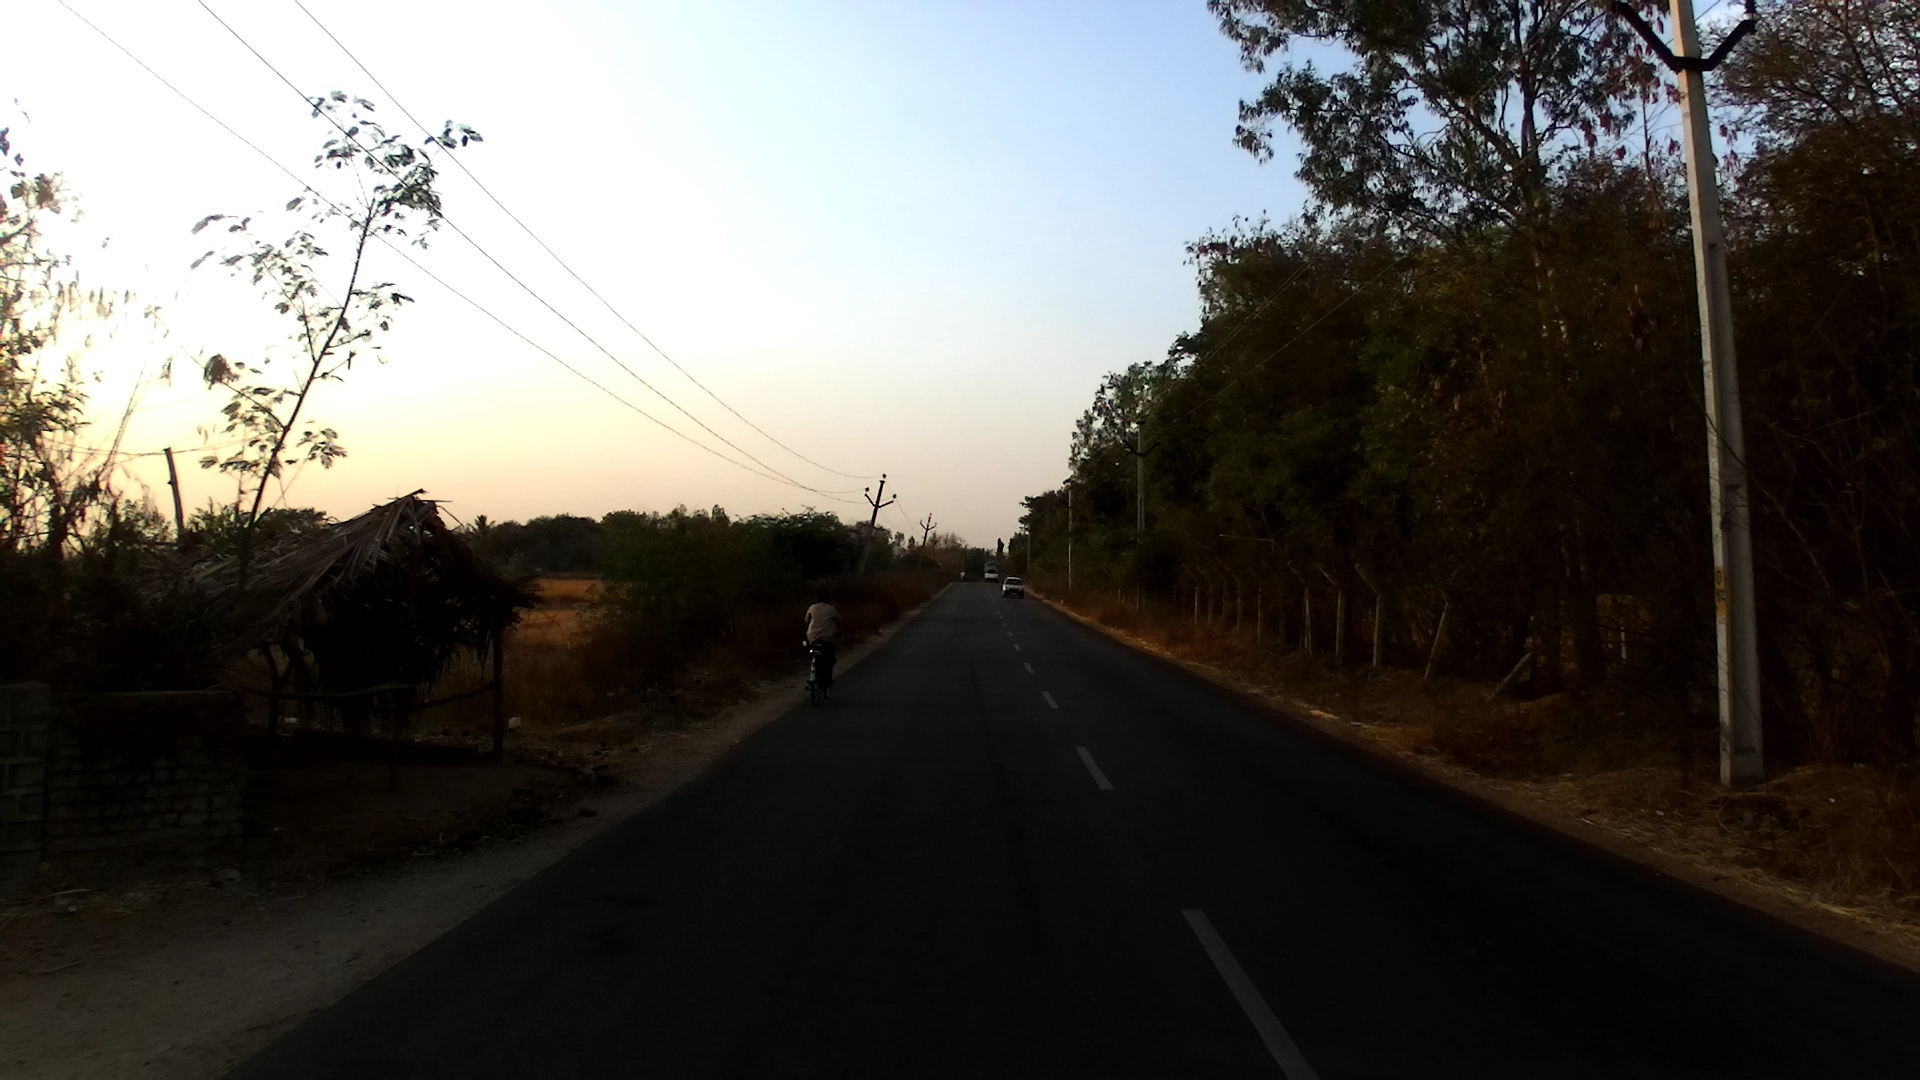bus: (802, 622, 844, 710)
car: (1000, 574, 1030, 601), (982, 562, 1003, 581)
motorcycle: (962, 575, 968, 582)
rider: (800, 587, 848, 693), (959, 568, 966, 580)
